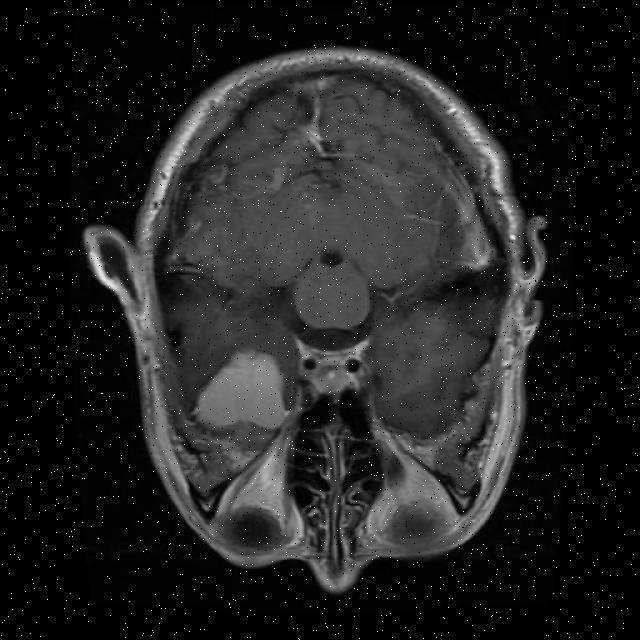Meningioma: (198, 353, 284, 429)
